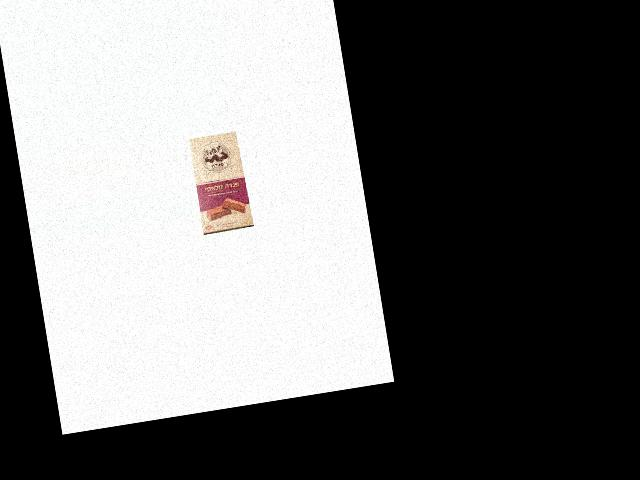chocolate: (189, 130, 255, 234)
